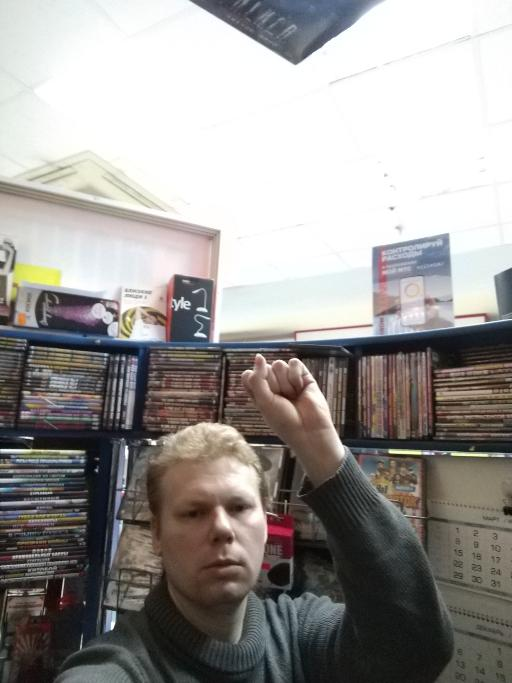fist: (236, 351, 336, 439)
